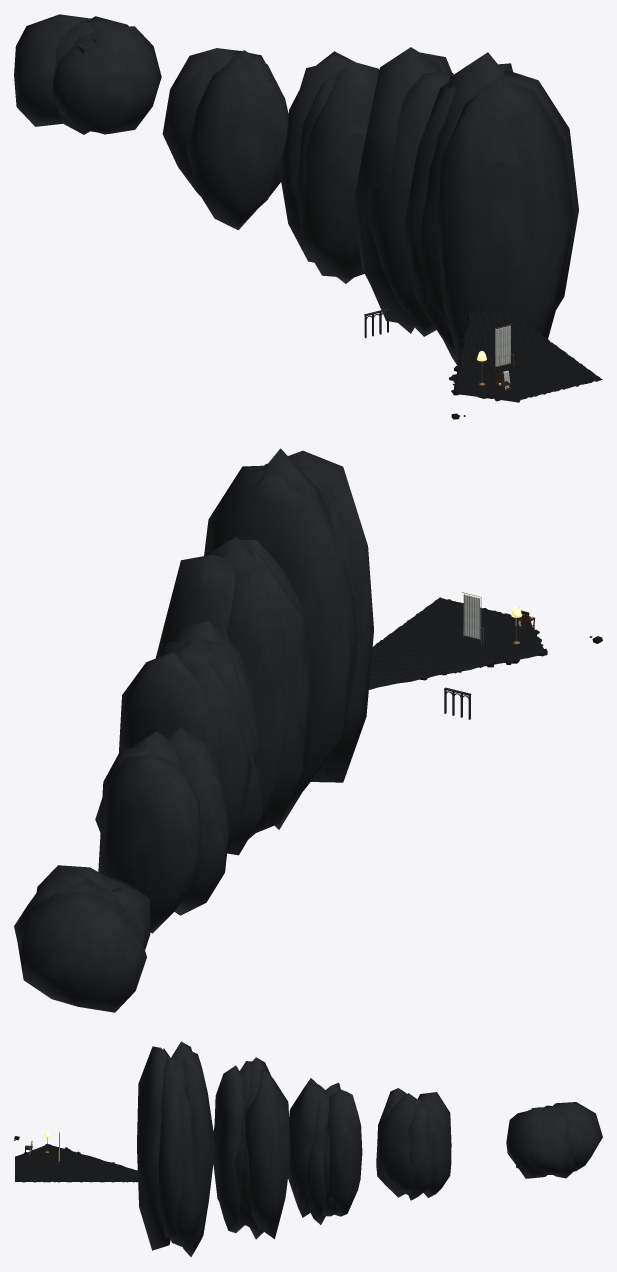
The model's file is living-scene.glb.
3 renders of one model, top to bottom at view 1: azimuth 30°, elevation 25°; view 2: azimuth 150°, elevation 25°; view 3: azimuth 270°, elevation 25°, orthographic. The views are drawn at different scales.
Parts seen in each view (by area): view 1: StudyBridgeArch, StudyWetRock, StudyPartialCurtain; view 2: StudyBridgeArch, StudyWetRock, StudyPartialCurtain; view 3: StudyBridgeArch, StudyWetRock.
Boxes of the visible parts, x1,y1,x2,y2 form: StudyBridgeArch: [14, 14, 578, 365]; StudyWetRock: [449, 309, 602, 419]; StudyPartialCurtain: [495, 325, 510, 366]; StudyBridgeArch: [14, 448, 471, 1012]; StudyWetRock: [369, 597, 602, 689]; StudyPartialCurtain: [463, 594, 480, 639]; StudyBridgeArch: [137, 1041, 602, 1256]; StudyWetRock: [14, 1136, 137, 1182].
Size of the model in its own units: 14.67 by 19.27 by 47.16.
Materials: 8 (7 with a texture image).
